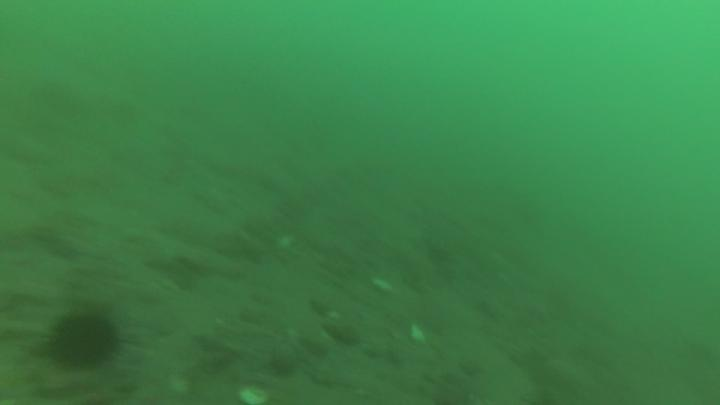echinus: (45, 307, 125, 373)
